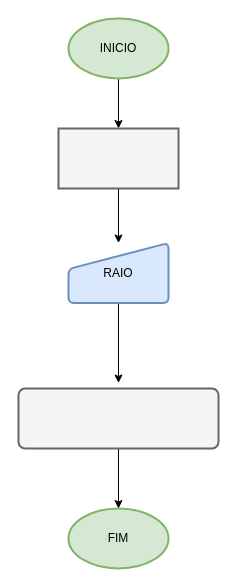
Some shapes in this 236 by 586 pixel diagram are drawn without their labels. Each missing label, with the centre of its shape:
"AREA = 3,1416 * (RAIO * RAIO)" belongs at (x=118, y=418).
"RAIO = 0 AREA = 0" belongs at (x=118, y=158).
